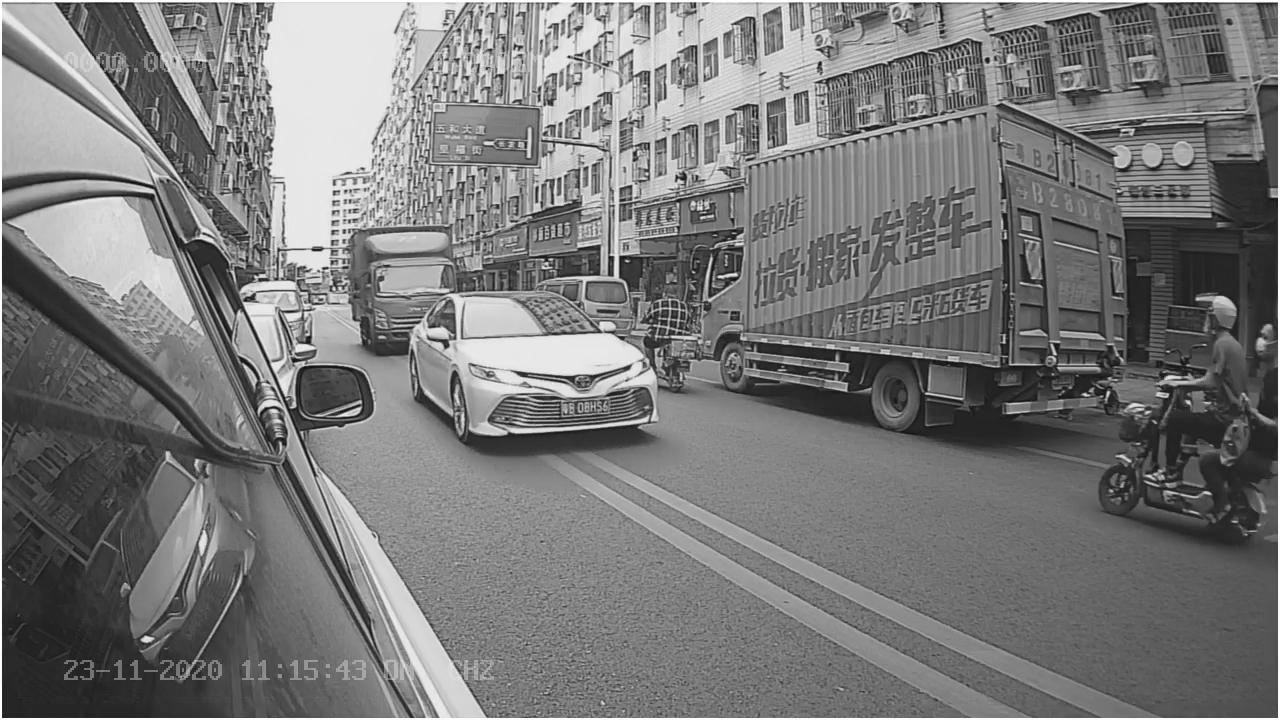person: (1185, 286, 1252, 402)
